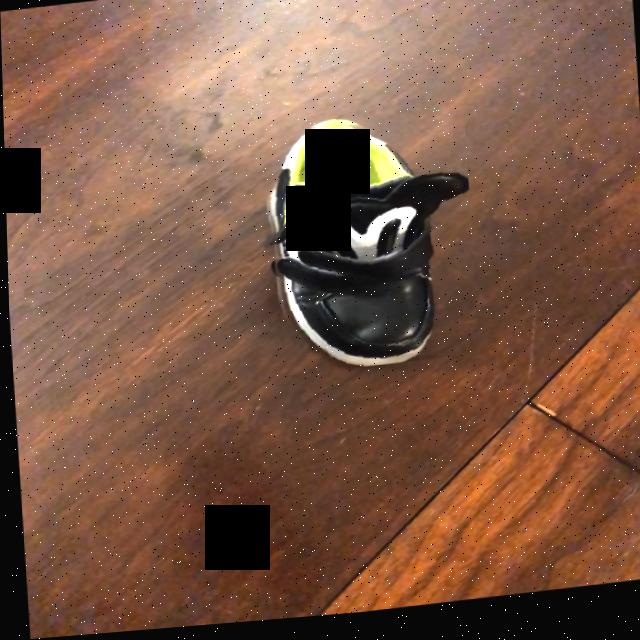shoe: (267, 130, 467, 374)
